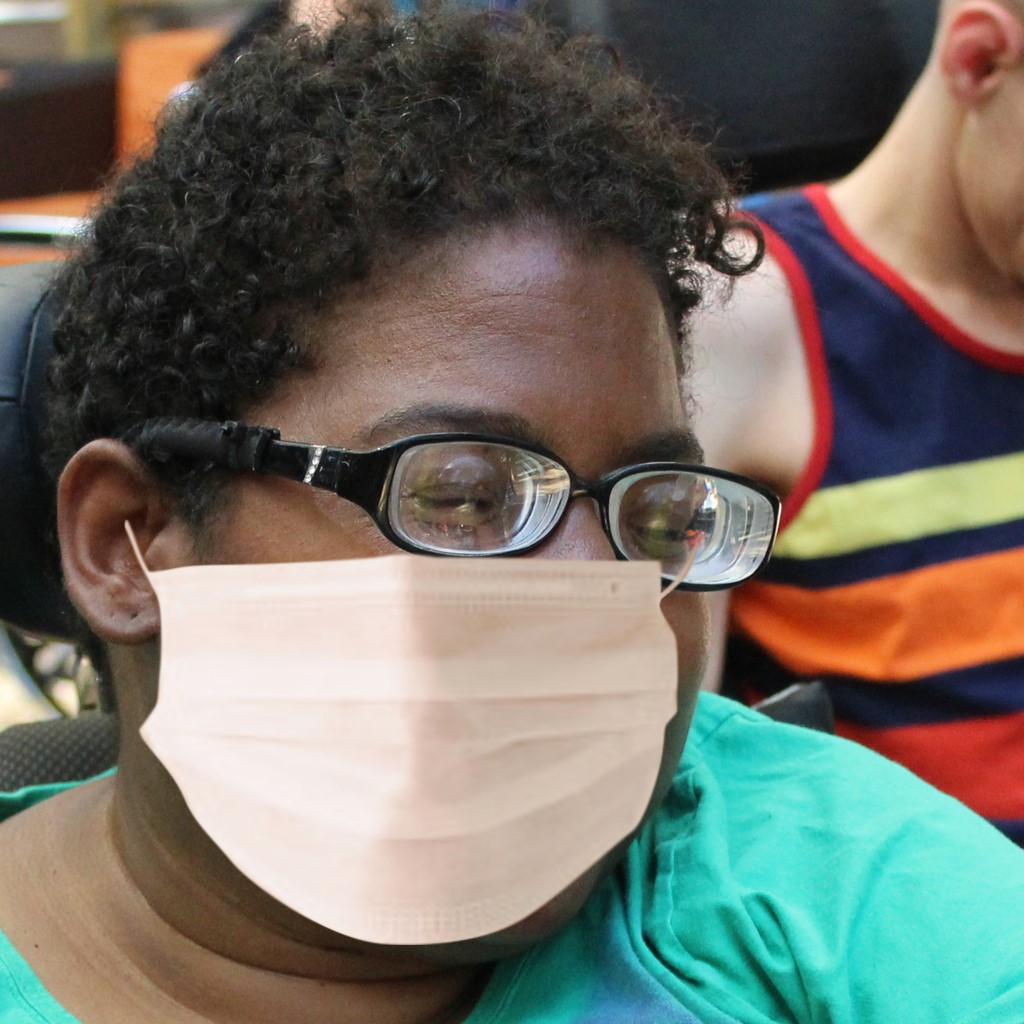con_mascara: (132, 143, 698, 939)
